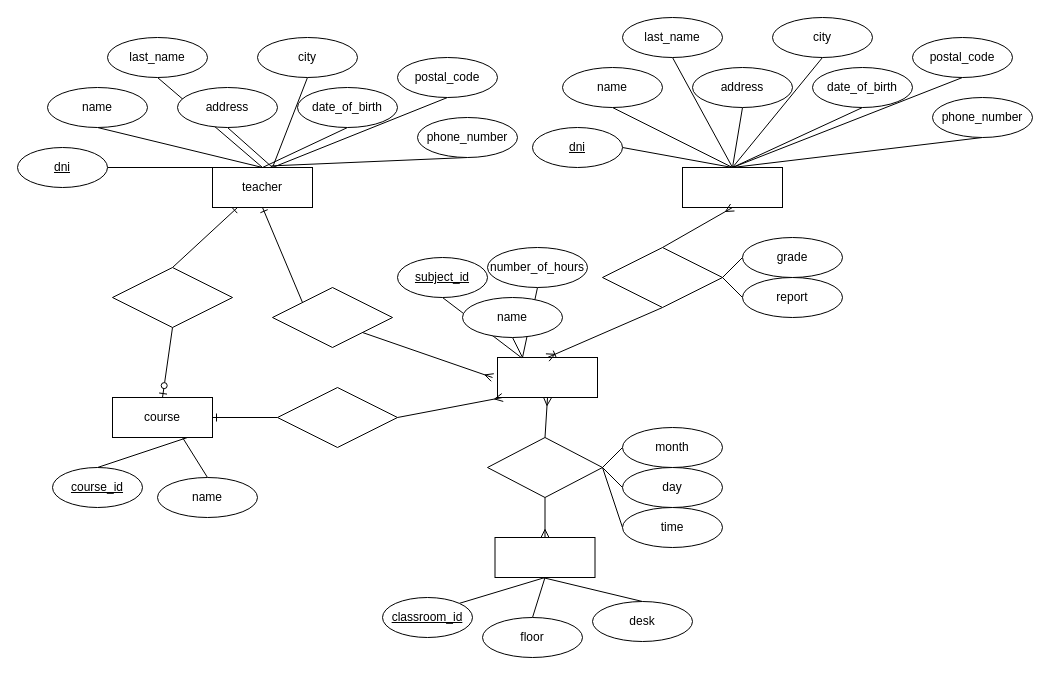
The diagram is 1050 pixels wide and 675 high, and some of its shapes have lost their labels. Here are the shapes that lost their labels. From the top down, the box of each, then its label:
(682, 166, 782, 208): student
(112, 266, 232, 328): tutorices
(602, 246, 722, 308): studies
(272, 286, 392, 348): teaches
(496, 356, 598, 398): subject
(276, 386, 398, 448): belongs
(486, 436, 602, 498): is thaught
(494, 536, 595, 578): classroom
